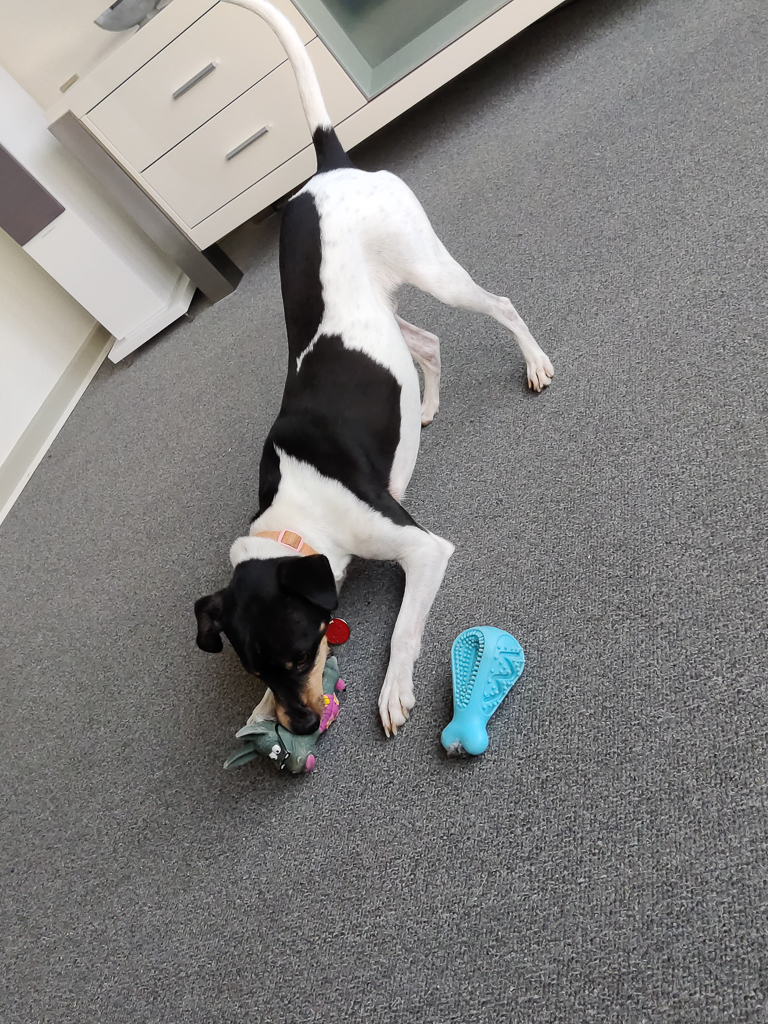Dog: (174, 0, 568, 782)
Humanoid: (223, 652, 358, 781)
